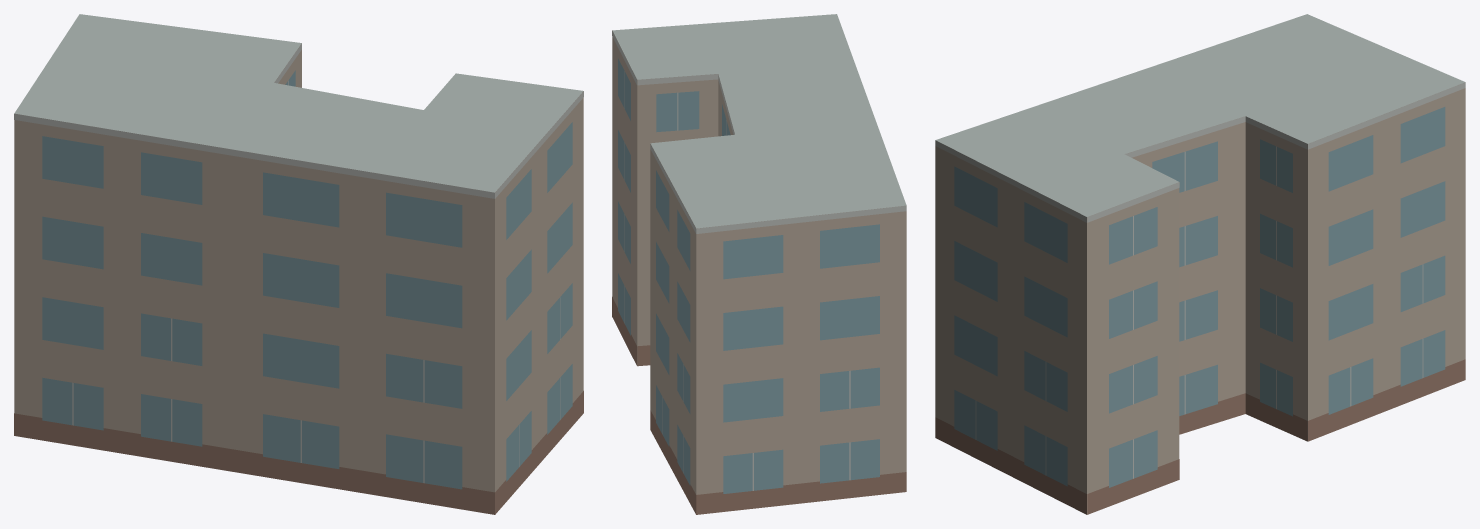
File: survey-upis-32707454.glb
The picture shows the model from 3 angles, left to right: view 1: azimuth 30°, elevation 25°; view 2: azimuth 150°, elevation 25°; view 3: azimuth 270°, elevation 25°; orthographic projection. The views are drawn at different scales.
Visible parts, largest first — view 1: survey-upis-32707454.tmp; view 2: survey-upis-32707454.tmp; view 3: survey-upis-32707454.tmp.
Boxes of the visible parts, x1=… form: survey-upis-32707454.tmp: x1=14, y1=14, x2=583, y2=514; survey-upis-32707454.tmp: x1=612, y1=14, x2=906, y2=514; survey-upis-32707454.tmp: x1=935, y1=14, x2=1465, y2=514.
Size of the model in its own units: 18.29 by 12.5 by 20.18.
